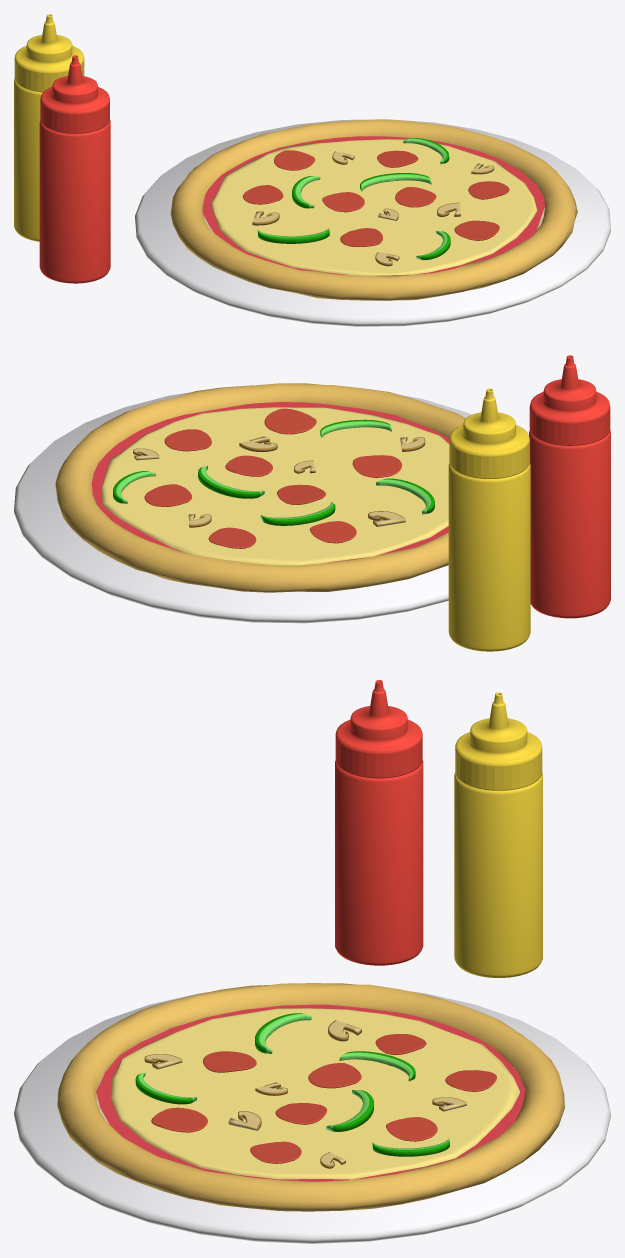
The model's file is pizzadish.glb.
3 views of the same model, one above another, from view 1: azimuth 30°, elevation 25°; view 2: azimuth 150°, elevation 25°; view 3: azimuth 270°, elevation 25° (orthographic). The views are drawn at different scales.
Parts seen in each view (by area): view 1: Cheese, crust, plate, sauce, musturd, Circle.001, Pepaaarrronnii.001, Pepaaarrronnii.004, Pepaaarrronnii.006, Pepaaarrronnii.002, Pepaaarrronnii, Pepaaarrronnii.003 (+5 smaller); view 2: Cheese, crust, musturd, sauce, plate, Circle.001, Pepaaarrronnii.001, Pepaaarrronnii, Pepaaarrronnii.005, Pepaaarrronnii.007, Pepaaarrronnii.003, Pepaaarrronnii.006 (+9 smaller); view 3: Cheese, crust, plate, sauce, musturd, Circle.001, Pepaaarrronnii.001, Pepaaarrronnii.004, Pepaaarrronnii.007, Pepaaarrronnii, Pepaaarrronnii.005, Pepaaarrronnii.002 (+5 smaller).
Boxes of the visible parts, left/top/right/bottom form: Cheese: left=210, top=139, right=537, bottom=275; crust: left=170, top=119, right=577, bottom=300; plate: left=135, top=119, right=610, bottom=326; sauce: left=39, top=55, right=110, bottom=283; musturd: left=14, top=14, right=84, bottom=241; Circle.001: left=202, top=136, right=544, bottom=274; Pepaaarrronnii.001: left=454, top=220, right=499, bottom=240; Pepaaarrronnii.004: left=322, top=192, right=364, bottom=212; Pepaaarrronnii.006: left=395, top=187, right=436, bottom=207; Pepaaarrronnii.002: left=274, top=150, right=315, bottom=170; Pepaaarrronnii: left=340, top=228, right=382, bottom=247; Pepaaarrronnii.003: left=242, top=185, right=283, bottom=204; Cheese: left=101, top=407, right=449, bottom=565; crust: left=55, top=383, right=465, bottom=592; musturd: left=448, top=388, right=530, bottom=651; sauce: left=529, top=355, right=610, bottom=618; plate: left=14, top=387, right=471, bottom=623; Circle.001: left=91, top=402, right=449, bottom=562; Pepaaarrronnii.001: left=264, top=408, right=316, bottom=434; Pepaaarrronnii: left=352, top=455, right=401, bottom=477; Pepaaarrronnii.005: left=164, top=429, right=211, bottom=451; Pepaaarrronnii.007: left=144, top=484, right=191, bottom=506; Pepaaarrronnii.003: left=309, top=521, right=356, bottom=543; Pepaaarrronnii.006: left=225, top=455, right=272, bottom=476; Cheese: left=110, top=1008, right=519, bottom=1179; crust: left=57, top=983, right=564, bottom=1211; plate: left=14, top=991, right=610, bottom=1243; sauce: left=335, top=680, right=423, bottom=965; musturd: left=454, top=692, right=542, bottom=977; Circle.001: left=96, top=1004, right=525, bottom=1181; Pepaaarrronnii.001: left=151, top=1107, right=207, bottom=1132; Pepaaarrronnii.004: left=308, top=1063, right=361, bottom=1088; Pepaaarrronnii.007: left=386, top=1117, right=437, bottom=1141; Pepaaarrronnii: left=203, top=1051, right=256, bottom=1072; Pepaaarrronnii.005: left=250, top=1141, right=301, bottom=1163; Pepaaarrronnii.002: left=445, top=1070, right=496, bottom=1091.
Size of the model in its own units: 16.43 by 6.78 by 13.36.
